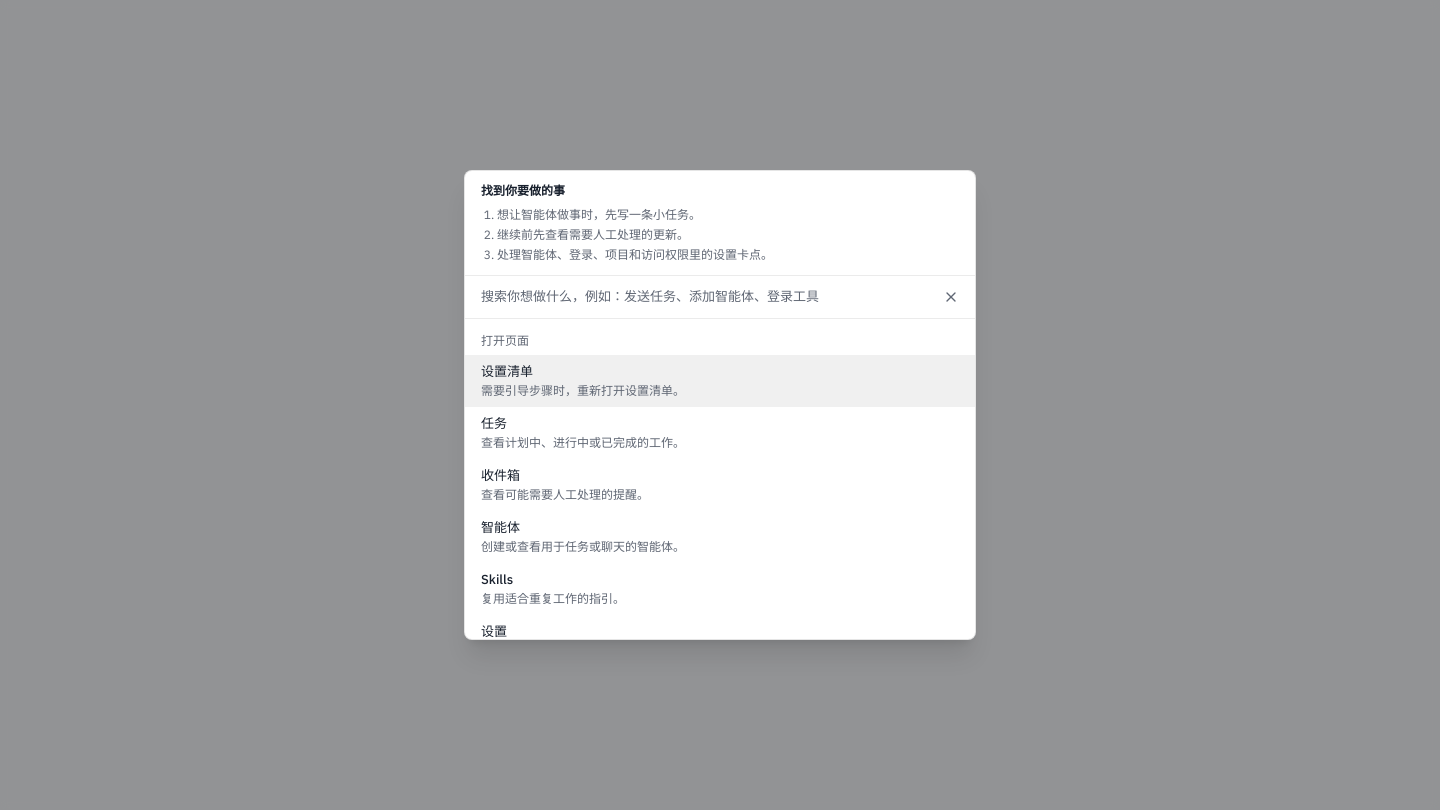
CommandPalette › shows beginner-readable Chinese copy when the app language is Chinese
Check: the text "打开页面" is shown, box [481,333,529,348]
Check: the text "任务" is shown, box [481,415,507,432]
Type "zzzzzz" into the dropdown with placeholder "搜索你想做什么，例如：发送任务、添加智能体、登录工具" at {"x": 700, "y": 297}, box [465,276,935,318]
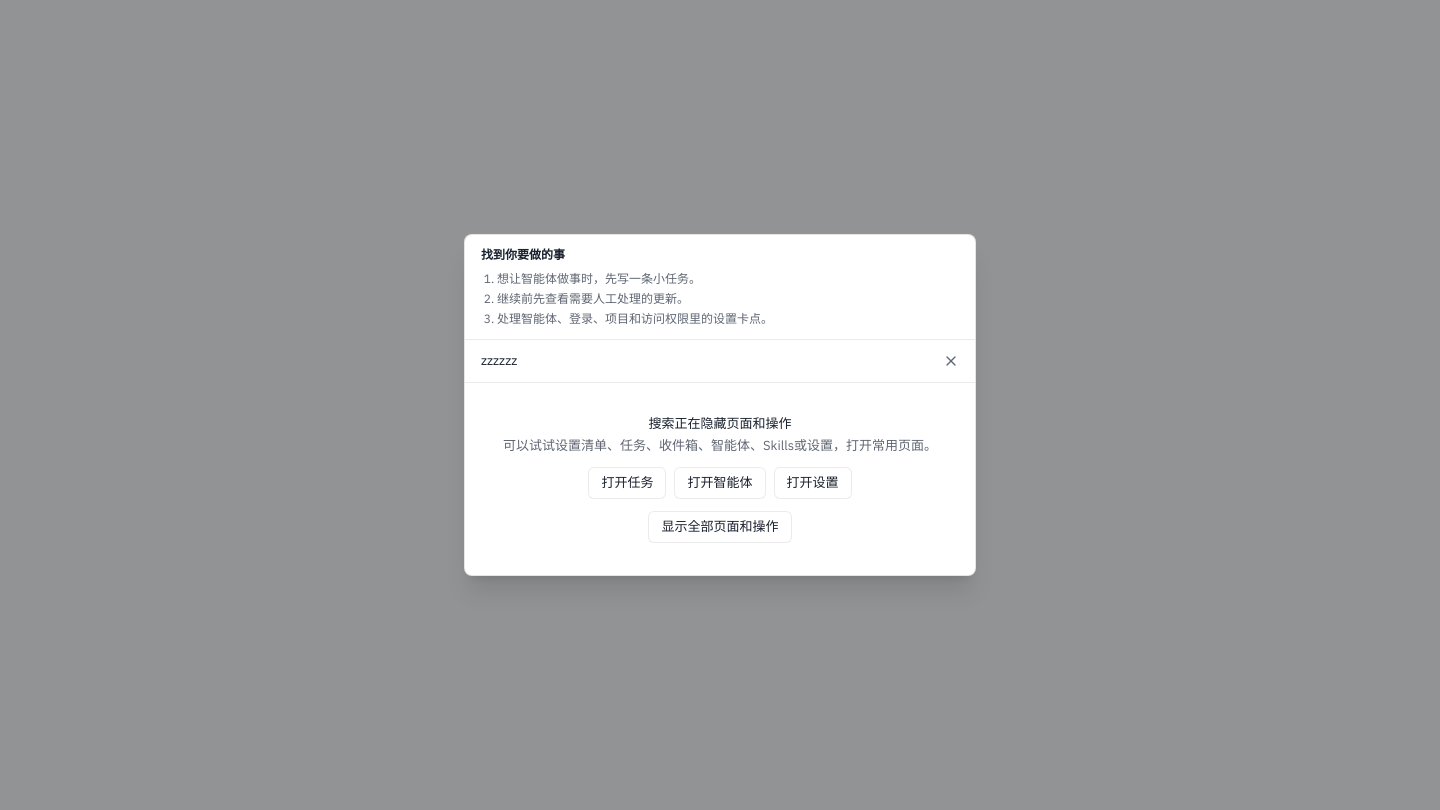
Check: the message shows "搜索正在隐藏页面和操作", box [648,415,792,432]
Check: the text "可以试试设置清单、任务、收件箱、智能体、Skills或设置，打开常用页面。" is shown, box [481,437,959,455]
Check: the button "打开任务" is shown, box [588,467,666,499]
